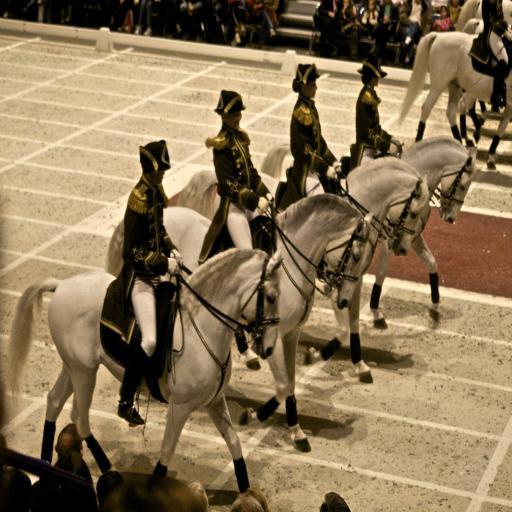Horse: (4, 0, 511, 498)
